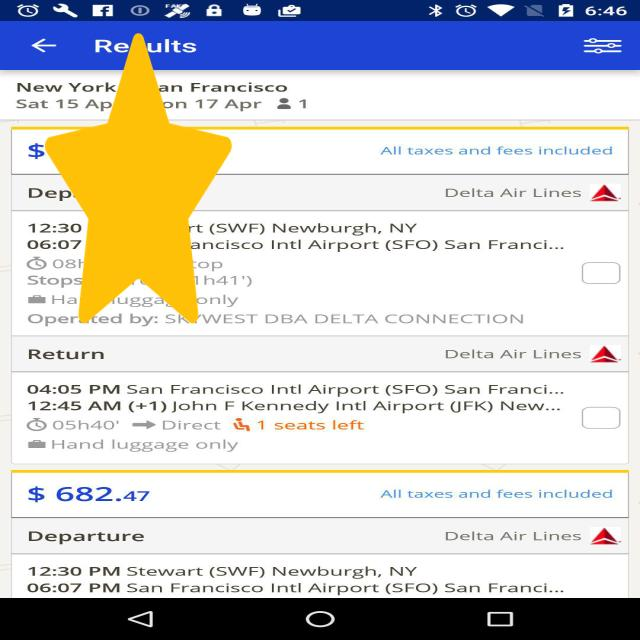forced continuity: (45, 33, 232, 324)
